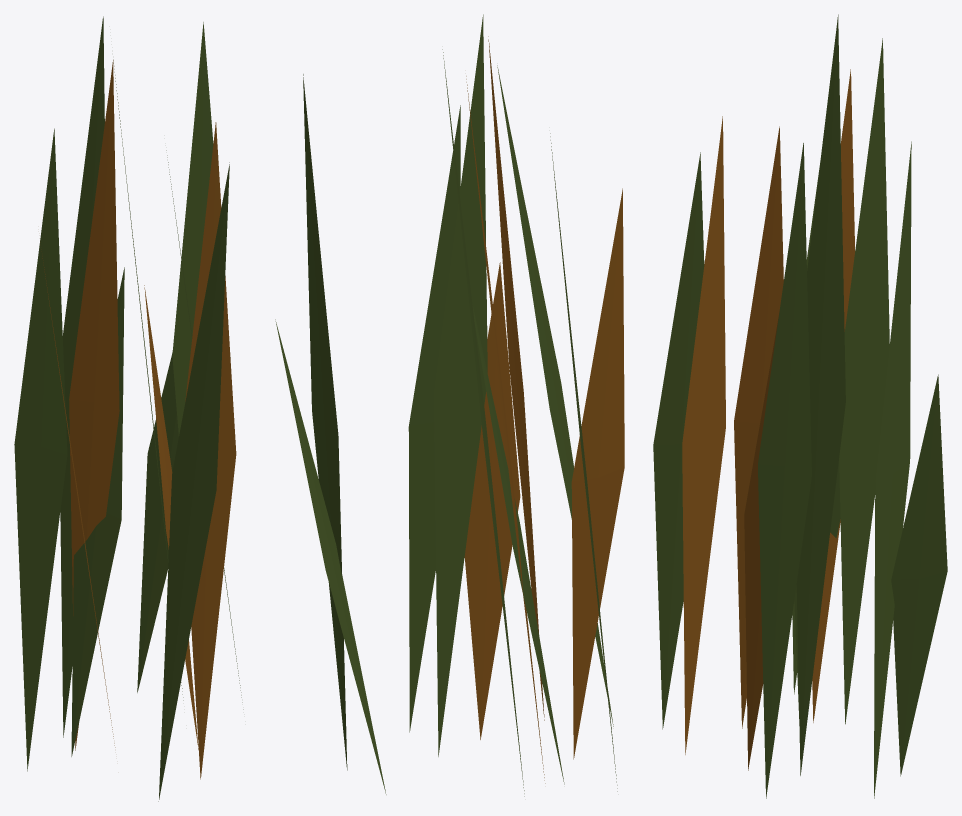
Rendered from Plant_TallGrass_01.fbx.
3 renders of one model, left to right at view 1: azimuth 30°, elevation 25°; view 2: azimuth 150°, elevation 25°; view 3: azimuth 270°, elevation 25°, orthographic. The views are drawn at different scales.
Visible parts, largest first — view 1: Plant_TallGrass_01_Mesh; view 2: Plant_TallGrass_01_Mesh; view 3: Plant_TallGrass_01_Mesh.
Part boxes in pixels (x1,y1,x2,y2): Plant_TallGrass_01_Mesh: [14, 16, 243, 801]; Plant_TallGrass_01_Mesh: [275, 14, 624, 796]; Plant_TallGrass_01_Mesh: [653, 14, 947, 798].
Size of the model in its own units: 0.3881 by 1.07 by 0.3907.
Materials: 1 (1 with a texture image).
